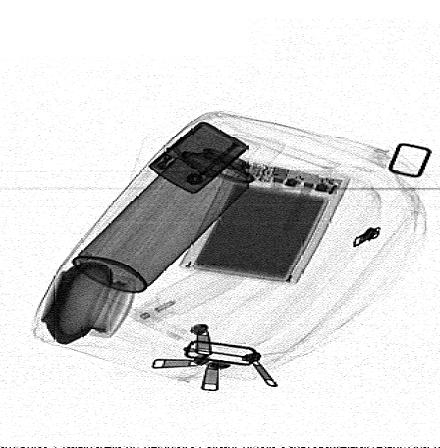Lighter: (149, 121, 251, 195)
Powerbank: (180, 158, 351, 286)
Sprayer: (71, 122, 288, 294)
